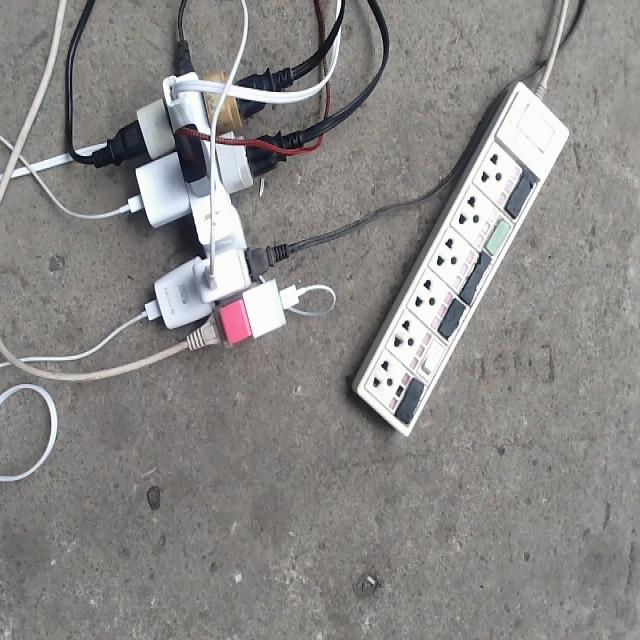-: (106, 62, 303, 346)
